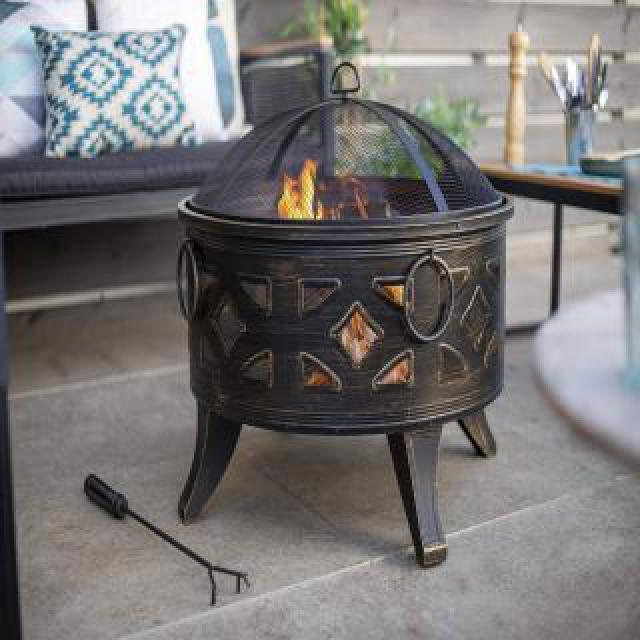Fire: (272, 150, 328, 234)
